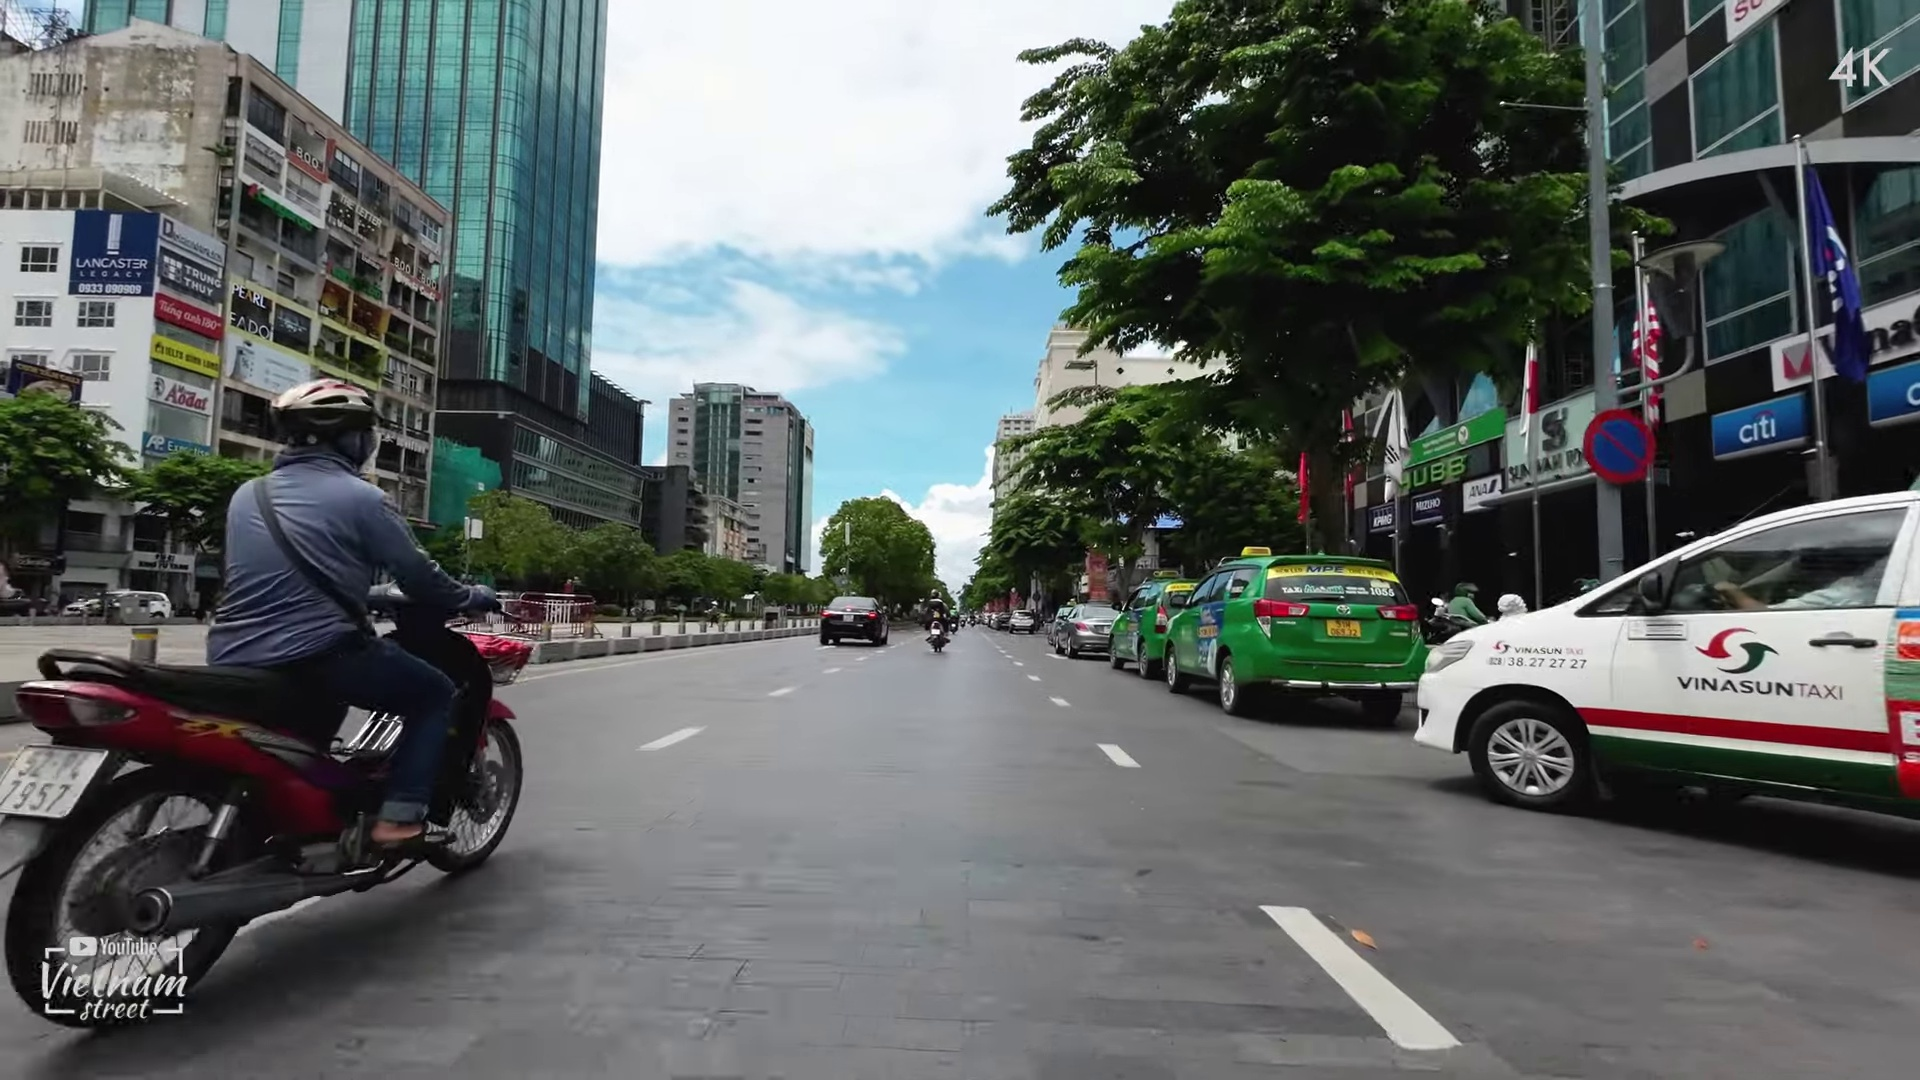cam_do_xe: (1580, 404, 1658, 487)
